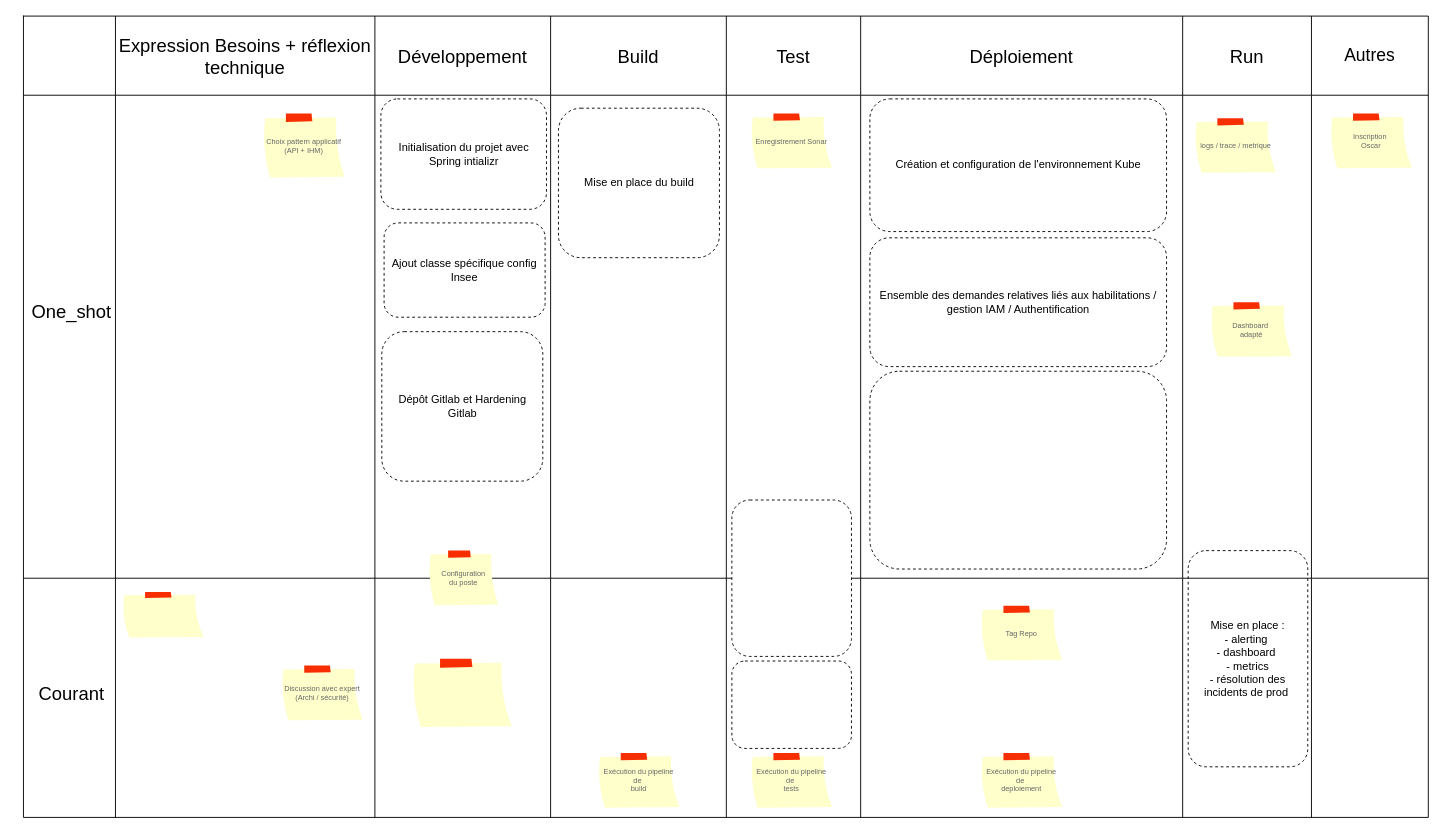
Some shapes in this 1444 by 834 pixel diagram are drawn without their labels. The centre of each missing label's shape, as x and y in pixels:
Affinage du besoin avec le métier: the point at 163,614
Ajout de tests: the point at 791,704
Création BDD + configuration: the point at 1018,469
Développement de la feature: the point at 462,693
Setup de l'environnement de Tests: the point at 791,577
